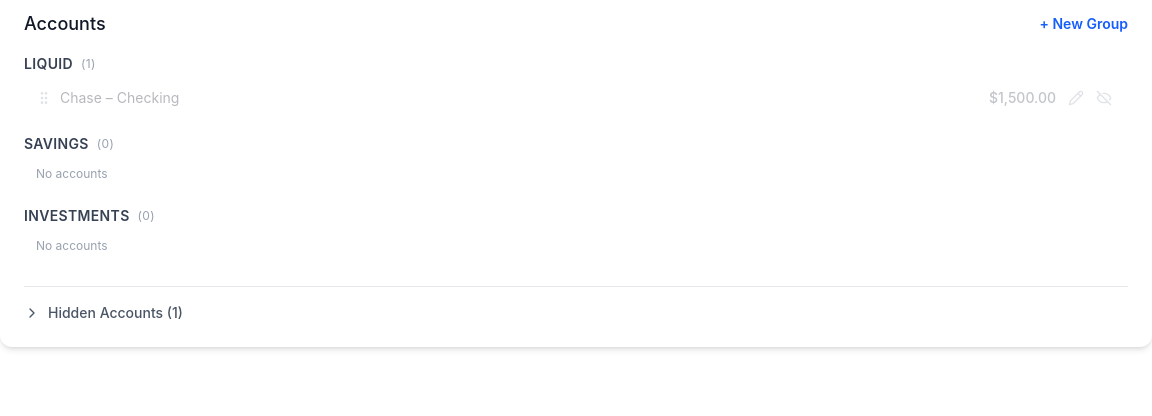
AccountsSection › hidden accounts appear in collapsible section
// Expand hidden accounts section
What coordinates should you click on to do the following:
click the button "Hidden Accounts (1)"
I would click on:
 (104, 313)
Its box is [24,303,183,323].
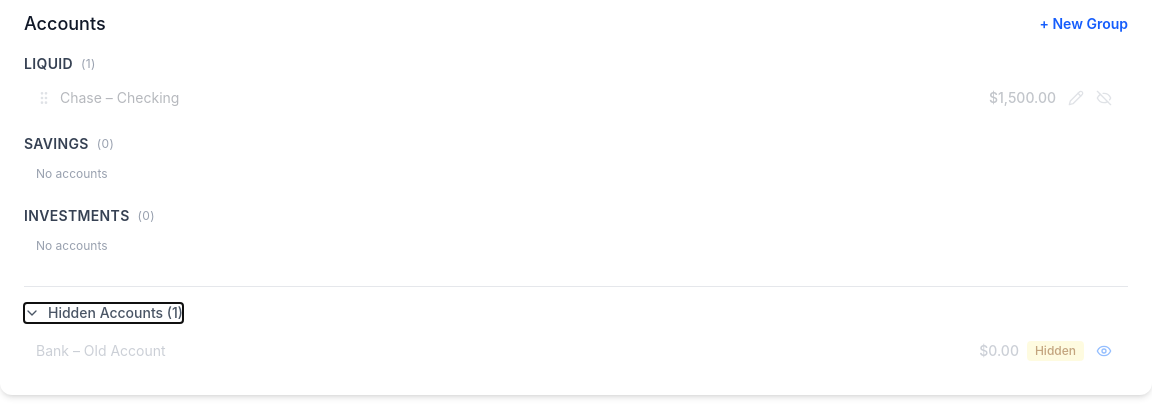
Expected: the element with test id "hidden-account-acc-hidden" is shown, [24,331,1128,371]
